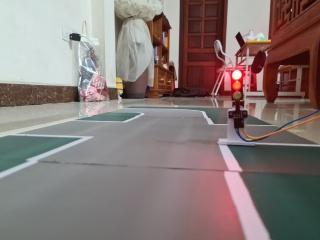red: (219, 57, 252, 120)
